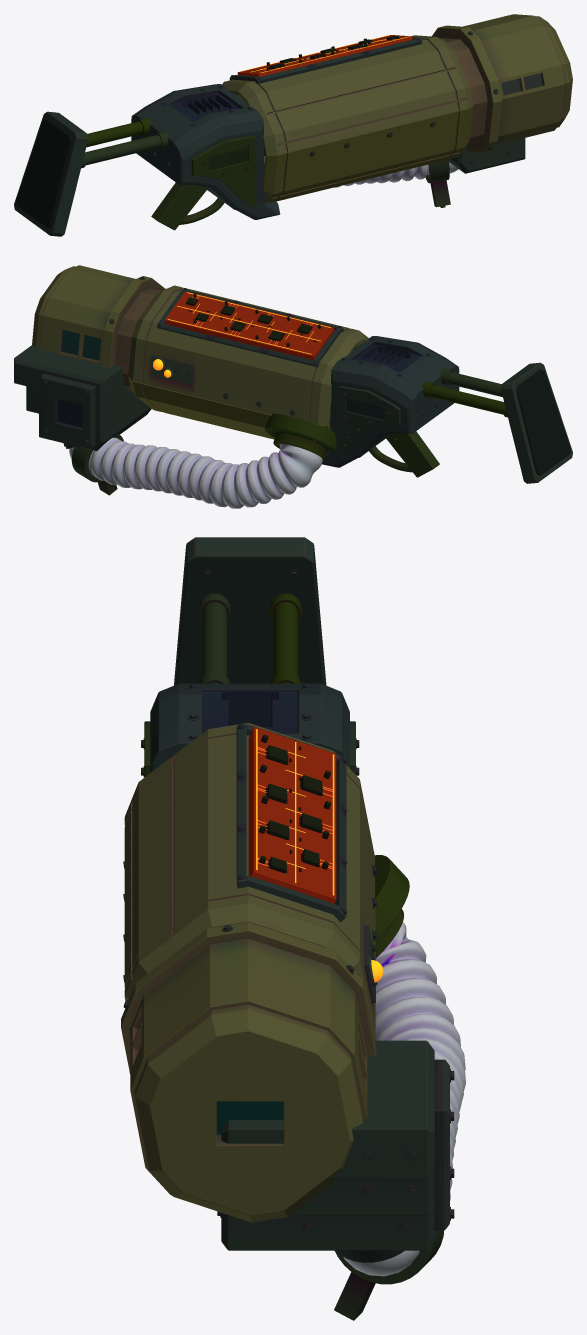
Rendered from railgun.7b1a9a2a.glb.
3 views of the same model, one above another, from view 1: azimuth 30°, elevation 25°; view 2: azimuth 150°, elevation 25°; view 3: azimuth 270°, elevation 25° (orthographic). The views are drawn at different scales.
Visible parts, largest first — view 1: xv_shell_top, xv_muzzle_cap, xv_shell_bottom, xv_rear_housing, xv_butt_plate, xv_rear_cover_right, xv_circuit_panel, xv_trigger, xv_muzzle_fitting, xv_panel_bezel, xv_stock_rod_right, xv_stock_rod_left (+2 smaller); view 2: xv_shell_top, xv_hose, xv_muzzle_cap, xv_muzzle_fitting, xv_rear_housing, xv_circuit_panel, xv_butt_plate, xv_shell_bottom, xv_rear_cover_left, xv_hose_clamp_rear, xv_panel_bezel, xv_trigger (+3 smaller); view 3: xv_muzzle_cap, xv_shell_top, xv_muzzle_fitting, xv_butt_plate, xv_circuit_panel, xv_rear_housing, xv_hose, xv_panel_bezel, xv_hose_clamp_rear, xv_stock_rod_left, xv_stock_rod_right, xv_hose_clamp_front.
Boxes of the visible parts, x1=… form: xv_shell_top: x1=222, y1=35, x2=473, y2=155; xv_muzzle_cap: x1=432, y1=14, x2=572, y2=153; xv_shell_bottom: x1=263, y1=106, x2=473, y2=202; xv_rear_housing: x1=131, y1=84, x2=280, y2=219; xv_butt_plate: x1=14, y1=111, x2=88, y2=236; xv_rear_cover_right: x1=191, y1=135, x2=256, y2=207; xv_circuit_panel: x1=237, y1=35, x2=412, y2=76; xv_trigger: x1=151, y1=182, x2=224, y2=230; xv_muzzle_fitting: x1=447, y1=138, x2=525, y2=173; xv_panel_bezel: x1=229, y1=37, x2=422, y2=84; xv_stock_rod_right: x1=81, y1=131, x2=169, y2=168; xv_stock_rod_left: x1=86, y1=117, x2=151, y2=147; xv_shell_top: x1=128, y1=285, x2=368, y2=425; xv_hose: x1=69, y1=437, x2=322, y2=508; xv_muzzle_cap: x1=32, y1=265, x2=165, y2=391; xv_muzzle_fitting: x1=14, y1=344, x2=151, y2=450; xv_rear_housing: x1=322, y1=336, x2=459, y2=467; xv_circuit_panel: x1=165, y1=291, x2=334, y2=360; xv_butt_plate: x1=501, y1=362, x2=572, y2=483; xv_shell_bottom: x1=128, y1=377, x2=330, y2=439; xv_rear_cover_left: x1=338, y1=386, x2=400, y2=455; xv_hose_clamp_rear: x1=265, y1=413, x2=336, y2=459; xv_panel_bezel: x1=157, y1=288, x2=343, y2=367; xv_trigger: x1=369, y1=431, x2=439, y2=477; xv_muzzle_cap: x1=121, y1=922, x2=376, y2=1222; xv_shell_top: x1=125, y1=722, x2=377, y2=1039; xv_muzzle_fitting: x1=217, y1=1040, x2=454, y2=1262; xv_butt_plate: x1=174, y1=537, x2=326, y2=685; xv_circuit_panel: x1=248, y1=727, x2=336, y2=903; xv_rear_housing: x1=150, y1=683, x2=349, y2=772; xv_hose: x1=343, y1=922, x2=465, y2=1276; xv_panel_bezel: x1=236, y1=723, x2=347, y2=922; xv_hose_clamp_rear: x1=374, y1=855, x2=409, y2=958; xv_stock_rod_left: x1=270, y1=593, x2=301, y2=683; xv_stock_rod_right: x1=198, y1=593, x2=230, y2=683; xv_hose_clamp_front: x1=334, y1=1230, x2=444, y2=1320.
Bounding box in the file's own units: 1.2 × 0.4554 × 0.3589.
